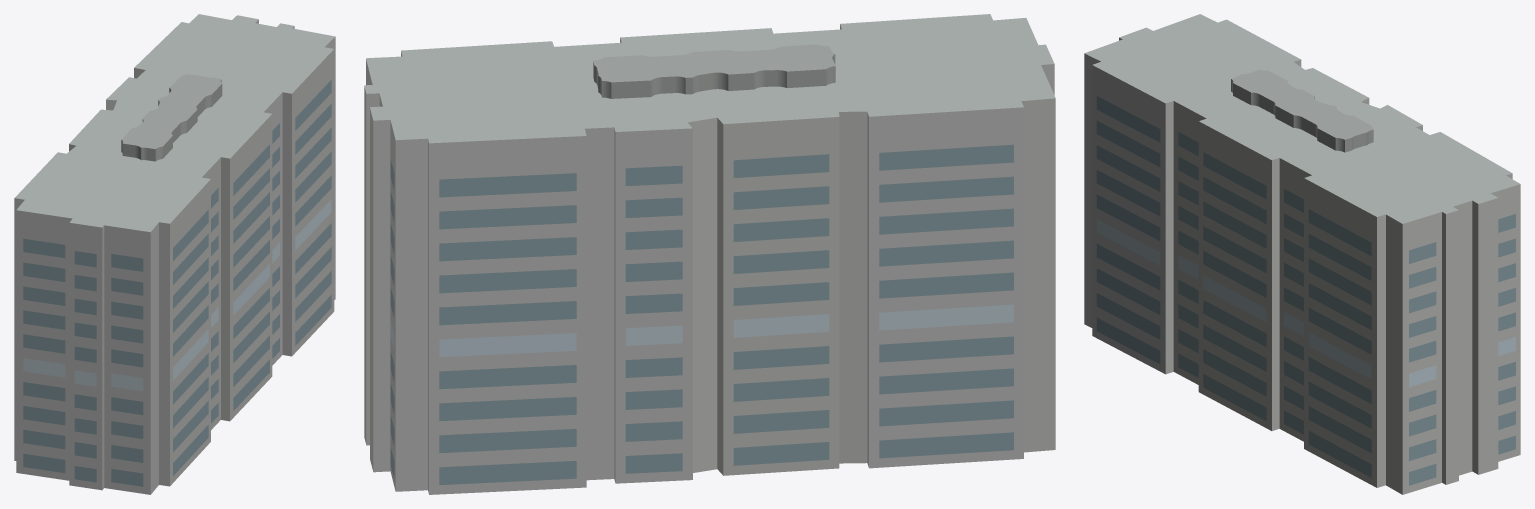
File: apt-a15001001.glb
The picture shows the model from 3 angles, left to right: view 1: azimuth 30°, elevation 25°; view 2: azimuth 150°, elevation 25°; view 3: azimuth 270°, elevation 25°; orthographic projection. The views are drawn at different scales.
Parts seen in each view (by area): view 1: apt-a15001001; view 2: apt-a15001001; view 3: apt-a15001001.
Boxes of the visible parts, x1,y1,x2,y2 form: apt-a15001001: (14,14,335,494); apt-a15001001: (364,14,1055,494); apt-a15001001: (1084,14,1520,494).
Size of the model in its own units: 52.39 by 33 by 46.01.
